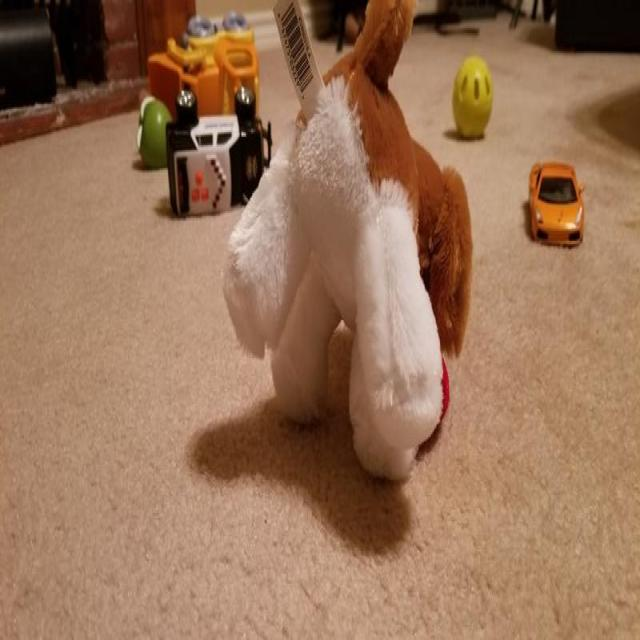toy: (221, 5, 475, 464), (165, 80, 275, 233), (146, 30, 264, 124), (514, 146, 594, 255), (452, 44, 494, 154), (136, 78, 172, 175)
